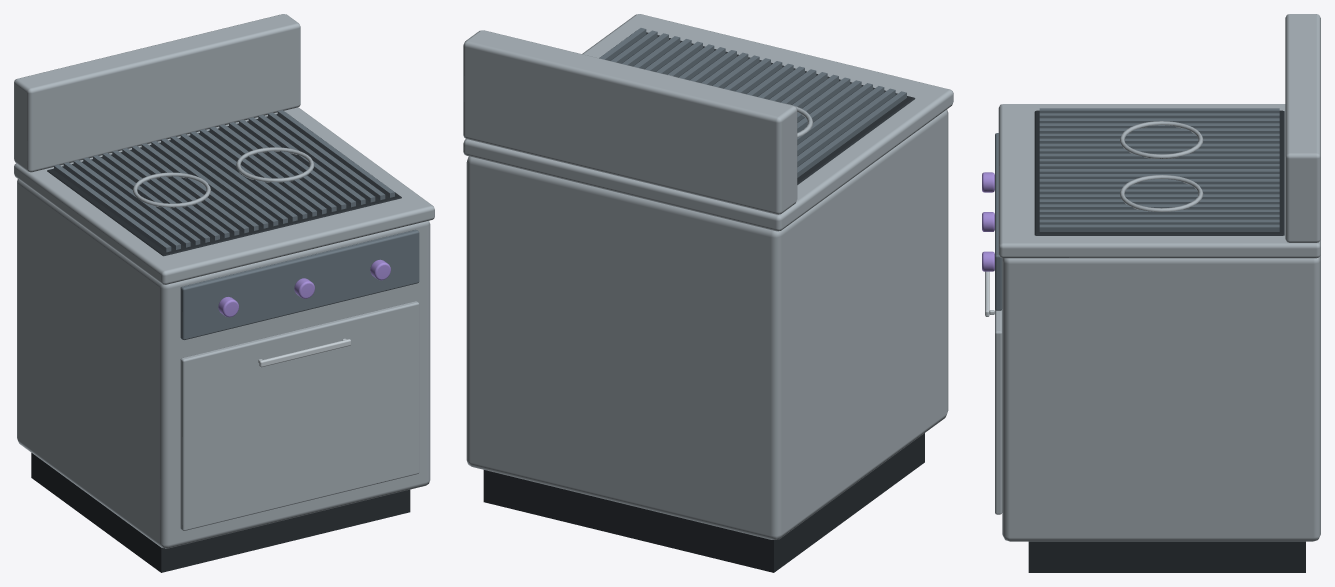
Rendered from SM_Grill.glb.
The picture shows the model from 3 angles, left to right: view 1: azimuth 30°, elevation 25°; view 2: azimuth 150°, elevation 25°; view 3: azimuth 270°, elevation 25°; orthographic projection. The views are drawn at different scales.
Parts seen in each view (by area): view 1: SM_Grill; view 2: SM_Grill; view 3: SM_Grill.
Boxes of the visible parts, <box> form: SM_Grill: <box>14,14,434,572</box>; SM_Grill: <box>463,14,953,572</box>; SM_Grill: <box>982,14,1320,572</box>.
Size of the model in its own units: 0.9 by 1.25 by 0.904.
3 materials, 3 textured.
